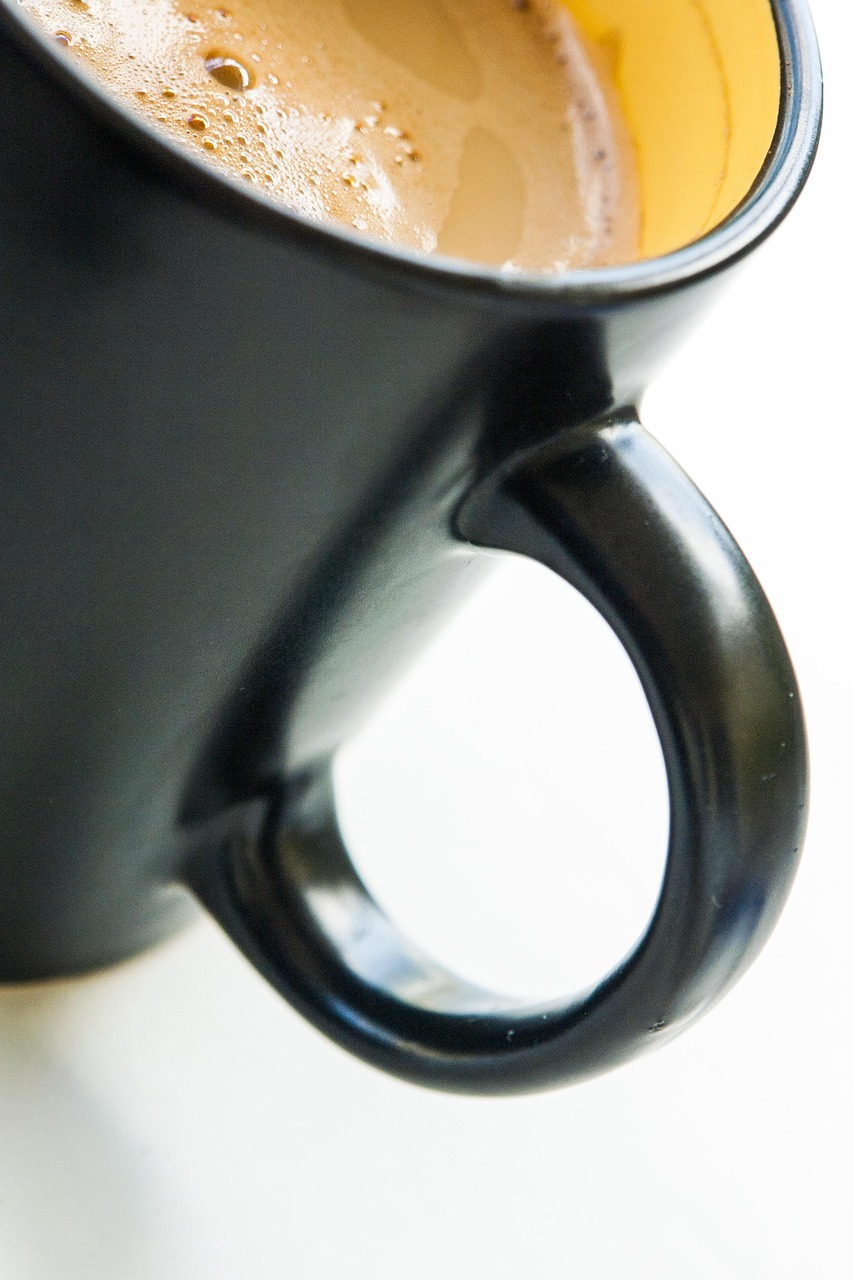mug: (1, 1, 821, 1174)
